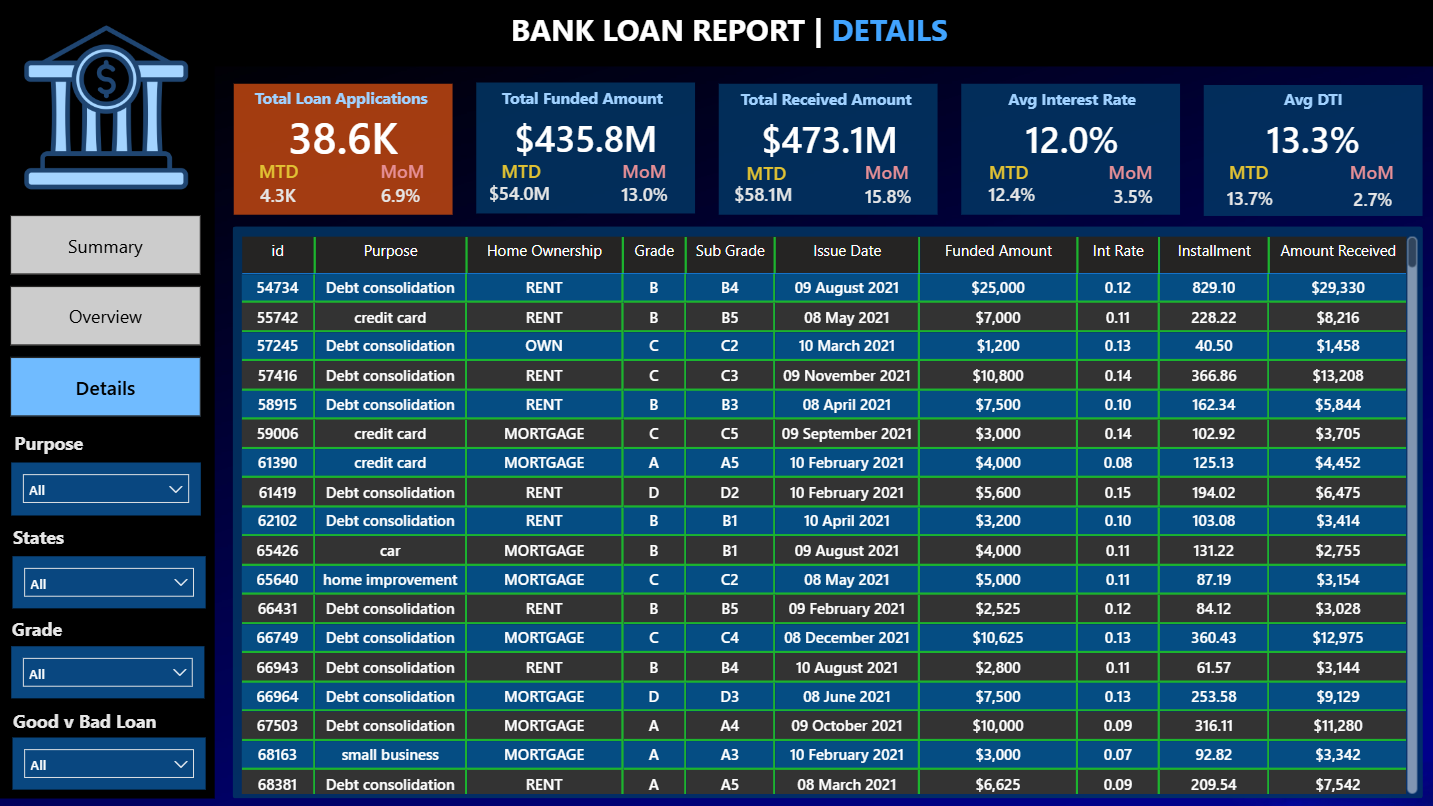

The page's visual inventory and layout, read from the dashboard file:
{"tool":"powerbi","page":{"name":"Details","canvas":[1280,720],"ordinal":2},"visuals":[{"type":"shape","box":[0,0,191.4,711.1],"z":0},{"type":"shape","box":[0,0,1280.2,59.3],"z":1000},{"type":"textbox","box":[421.6,3.8,462.4,48.5],"z":2000},{"type":"shape","box":[208.6,74.1,194.9,116.6],"z":3000},{"type":"cardVisual","fields":{"Data":["bank_loan_analysis financial_loan.Total Loan Applications"]},"box":[208.3,85,195,72.5],"z":4000},{"type":"textbox","box":[208,72.6,195,31.4],"z":5000},{"type":"cardVisual","title":"MTD","fields":{"Data":["bank_loan_analysis financial_loan.MTD Loan Applications"]},"box":[191.8,144.5,112.7,55.5],"z":6000},{"type":"textbox","box":[208,136,80,37],"z":7000},{"type":"cardVisual","title":"MTD","fields":{"Data":["bank_loan_analysis financial_loan.MoM Loan Applications"]},"box":[311.1,145.8,96.3,53.2],"z":8000},{"type":"shape","box":[424.5,73.9,194.9,116.6],"z":9000},{"type":"cardVisual","fields":{"Data":["bank_loan_analysis financial_loan.Total Funded Amount"]},"box":[424.3,84.4,195,73.3],"z":10000},{"type":"textbox","box":[423.5,72.8,195.1,32.1],"z":11000},{"type":"cardVisual","title":"MTD","fields":{"Data":["bank_loan_analysis financial_loan.MTD Funded Amount"]},"box":[400.2,142.1,126.7,55.8],"z":12000},{"type":"textbox","box":[424.4,135.4,79.9,31.4],"z":13000},{"type":"cardVisual","title":"MTD","fields":{"Data":["bank_loan_analysis financial_loan.MoM Total Funded Amount"]},"box":[515.3,145.8,117.4,52.6],"z":14000},{"type":"textbox","box":[538.6,135.4,69.9,31.4],"z":15000},{"type":"textbox","box":[324.4,135.6,68.9,35.6],"z":16000},{"type":"shape","box":[640.5,75.1,194.9,116.6],"z":17000},{"type":"cardVisual","fields":{"Data":["bank_loan_analysis financial_loan.Total Amount Received"]},"box":[641,85.6,195,73.6],"z":18000},{"type":"textbox","box":[640.5,73.1,195,31.7],"z":19000},{"type":"cardVisual","title":"MTD","fields":{"Data":["bank_loan_analysis financial_loan.MTD Total Amount Received"]},"box":[616.9,143.3,126.7,55.8],"z":20000},{"type":"textbox","box":[641.2,137.5,82.5,33.8],"z":21000},{"type":"cardVisual","title":"MTD","fields":{"Data":["bank_loan_analysis financial_loan.MoM Total Amount Received"]},"box":[732.1,147.4,117.4,52.1],"z":22000},{"type":"textbox","box":[755,137,70,38],"z":23000},{"type":"shape","box":[856.5,75.1,194.9,116.6],"z":24000},{"type":"cardVisual","fields":{"Data":["bank_loan_analysis financial_loan.Avg Interest Rate"]},"box":[857.7,85.6,195,73.6],"z":25000},{"type":"textbox","box":[857.2,73.1,195,31.7],"z":26000},{"type":"cardVisual","title":"MTD","fields":{"Data":["bank_loan_analysis financial_loan.MTD Avg Interest Rate"]},"box":[841.1,143.5,119.2,55.8],"z":27000},{"type":"textbox","box":[858,137,80,36],"z":28000},{"type":"cardVisual","title":"MTD","fields":{"Data":["bank_loan_analysis financial_loan.MoM Avg Interest Rate"]},"box":[950.5,146.8,117.4,52.6],"z":29000},{"type":"textbox","box":[972,137,70,40],"z":30000},{"type":"shape","box":[1072.4,75.8,194.9,116.6],"z":31000},{"type":"cardVisual","fields":{"Data":["bank_loan_analysis financial_loan.Avg DTI"]},"box":[1072.1,86.3,195,73.6],"z":32000},{"type":"textbox","box":[1071.6,73.8,195,31.7],"z":33000},{"type":"cardVisual","title":"MTD","fields":{"Data":["bank_loan_analysis financial_loan.MTD Avg DTI"]},"box":[1053,147,120,55],"z":34000},{"type":"textbox","box":[1072.2,137.3,79.9,31.4],"z":35000},{"type":"cardVisual","title":"MTD","fields":{"Data":["bank_loan_analysis financial_loan.MoM Avg DTI"]},"box":[1166.3,150.5,112.1,52.1],"z":36000},{"type":"textbox","box":[1186.4,137.3,69.9,31.4],"z":37000},{"type":"shape","box":[206.9,201.8,1060.3,509.7],"z":38000},{"type":"slicer","fields":{"Values":["bank_loan_analysis financial_loan.address_state"]},"box":[11.1,494.9,172,46.4],"z":39000},{"type":"textbox","box":[6.7,461.5,67.7,34.5],"z":40000},{"type":"slicer","fields":{"Values":["bank_loan_analysis financial_loan.grade"]},"box":[10.3,575.4,172,46.4],"z":41000},{"type":"textbox","box":[5.8,544,67.3,34.4],"z":42000},{"type":"slicer","fields":{"Values":["bank_loan_analysis financial_loan.Good v Bad Loan"]},"box":[10.7,656.5,172,46.4],"z":43000},{"type":"textbox","box":[6.7,625.7,158.4,34.5],"z":44000},{"type":"slicer","fields":{"Values":["bank_loan_analysis financial_loan.purpose"]},"box":[10.1,411.7,168.6,47.3],"z":45000},{"type":"textbox","box":[7.5,378.4,139.2,34.5],"z":46000},{"type":"tableEx","fields":{"Values":["bank_loan_analysis financial_loan.id","bank_loan_analysis financial_loan.purpose","bank_loan_analysis financial_loan.home_ownership","bank_loan_analysis financial_loan.grade","bank_loan_analysis financial_loan.sub_grade","bank_loan_analysis financial_loan.issue_date","bank_loan_analysis financial_loan.Total Funded Amount","Sum(bank_loan_analysis financial_loan.int_rate)","Sum(bank_loan_analysis financial_loan.installment)","bank_loan_analysis financial_loan.Total Amount Received"]},"box":[209.5,205.7,1057.7,505.9],"z":47000},{"type":"pageNavigator","box":[8.6,191.4,170,180],"z":48000},{"type":"image","box":[18.6,14.3,151.4,162.9],"z":49000}]}

Visuals, with their boxes in screenshot pixels (x1, y1, x2, y2), scaled from the page's 1280x720 canvas onto the 1433x806 screenshot:
shape: pyautogui.locateOnScreen(0, 0, 214, 796)
shape: pyautogui.locateOnScreen(0, 0, 1432, 66)
textbox: pyautogui.locateOnScreen(472, 4, 990, 59)
shape: pyautogui.locateOnScreen(234, 83, 452, 213)
cardVisual - bank_loan_analysis financial_loan.Total Loan Applications: pyautogui.locateOnScreen(233, 95, 452, 176)
textbox: pyautogui.locateOnScreen(233, 81, 451, 116)
"MTD" cardVisual: pyautogui.locateOnScreen(215, 162, 341, 224)
textbox: pyautogui.locateOnScreen(233, 152, 322, 194)
"MTD" cardVisual: pyautogui.locateOnScreen(348, 163, 456, 223)
shape: pyautogui.locateOnScreen(475, 83, 693, 213)
cardVisual - bank_loan_analysis financial_loan.Total Funded Amount: pyautogui.locateOnScreen(475, 94, 693, 177)
textbox: pyautogui.locateOnScreen(474, 81, 693, 117)
"MTD" cardVisual: pyautogui.locateOnScreen(448, 159, 590, 222)
textbox: pyautogui.locateOnScreen(475, 152, 565, 187)
"MTD" cardVisual: pyautogui.locateOnScreen(577, 163, 708, 222)
textbox: pyautogui.locateOnScreen(603, 152, 681, 187)
textbox: pyautogui.locateOnScreen(363, 152, 440, 192)
shape: pyautogui.locateOnScreen(717, 84, 935, 215)
cardVisual - bank_loan_analysis financial_loan.Total Amount Received: pyautogui.locateOnScreen(718, 96, 936, 178)
textbox: pyautogui.locateOnScreen(717, 82, 935, 117)
"MTD" cardVisual: pyautogui.locateOnScreen(691, 160, 832, 223)
textbox: pyautogui.locateOnScreen(718, 154, 810, 192)
"MTD" cardVisual: pyautogui.locateOnScreen(820, 165, 951, 223)
textbox: pyautogui.locateOnScreen(845, 153, 924, 196)
shape: pyautogui.locateOnScreen(959, 84, 1177, 215)
cardVisual - bank_loan_analysis financial_loan.Avg Interest Rate: pyautogui.locateOnScreen(960, 96, 1179, 178)
textbox: pyautogui.locateOnScreen(960, 82, 1178, 117)
"MTD" cardVisual: pyautogui.locateOnScreen(942, 161, 1075, 223)
textbox: pyautogui.locateOnScreen(961, 153, 1050, 194)
"MTD" cardVisual: pyautogui.locateOnScreen(1064, 164, 1196, 223)
textbox: pyautogui.locateOnScreen(1088, 153, 1167, 198)
shape: pyautogui.locateOnScreen(1201, 85, 1419, 215)
cardVisual - bank_loan_analysis financial_loan.Avg DTI: pyautogui.locateOnScreen(1200, 97, 1419, 179)
textbox: pyautogui.locateOnScreen(1200, 83, 1418, 118)
"MTD" cardVisual: pyautogui.locateOnScreen(1179, 165, 1313, 226)
textbox: pyautogui.locateOnScreen(1200, 154, 1290, 189)
"MTD" cardVisual: pyautogui.locateOnScreen(1306, 168, 1431, 227)
textbox: pyautogui.locateOnScreen(1328, 154, 1406, 189)
shape: pyautogui.locateOnScreen(232, 226, 1419, 796)
slicer - bank_loan_analysis financial_loan.address_state: pyautogui.locateOnScreen(12, 554, 205, 606)
textbox: pyautogui.locateOnScreen(8, 517, 83, 555)
slicer - bank_loan_analysis financial_loan.grade: pyautogui.locateOnScreen(12, 644, 204, 696)
textbox: pyautogui.locateOnScreen(6, 609, 82, 647)
slicer - bank_loan_analysis financial_loan.Good v Bad Loan: pyautogui.locateOnScreen(12, 735, 205, 787)
textbox: pyautogui.locateOnScreen(8, 700, 185, 739)
slicer - bank_loan_analysis financial_loan.purpose: pyautogui.locateOnScreen(11, 461, 200, 514)
textbox: pyautogui.locateOnScreen(8, 424, 164, 462)
tableEx - bank_loan_analysis financial_loan.id x bank_loan_analysis financial_loan.purpose: pyautogui.locateOnScreen(235, 230, 1419, 797)
pageNavigator: pyautogui.locateOnScreen(10, 214, 200, 416)
image: pyautogui.locateOnScreen(21, 16, 190, 198)
